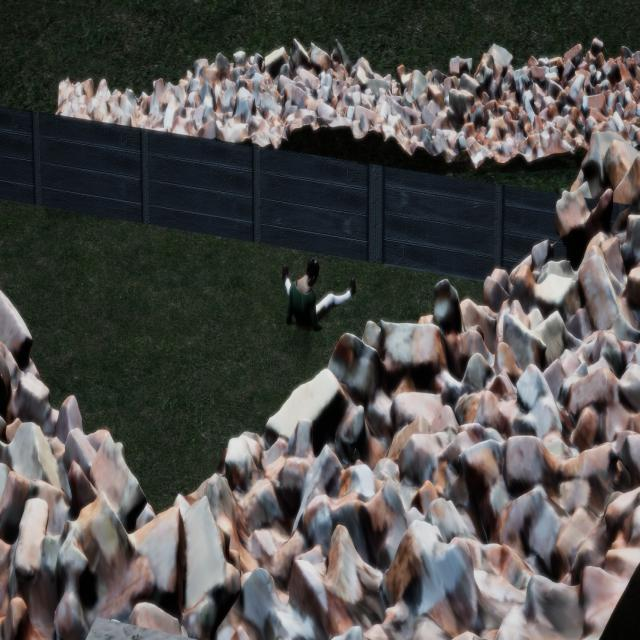Human: (270, 244, 366, 341)
